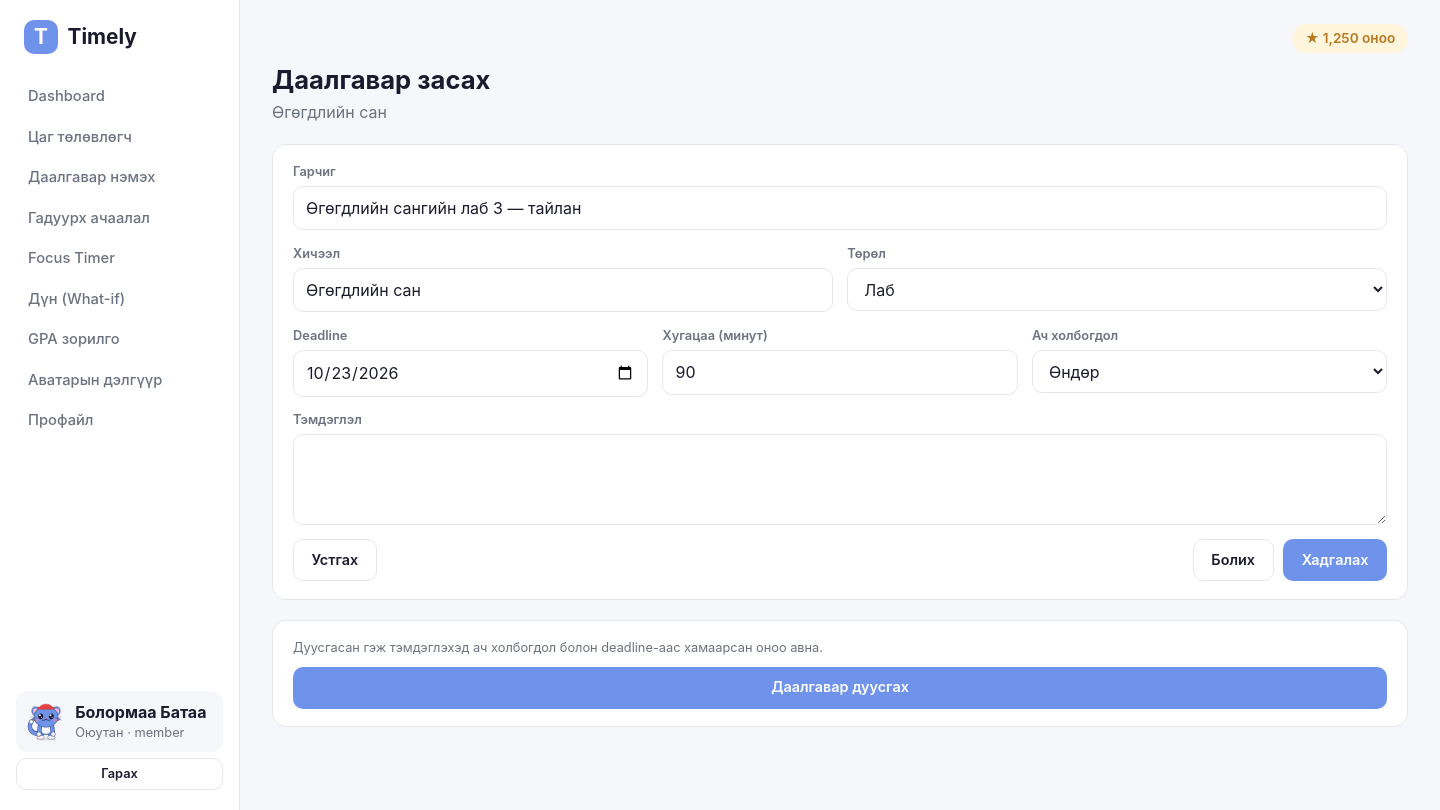
Test: TML-TASK — Task CRUD › UI: даалгавар дуусгахад оноо бүртгэнэ
Click the button with test id "complete-task". click: (840, 688)
box: [293, 667, 1387, 709]
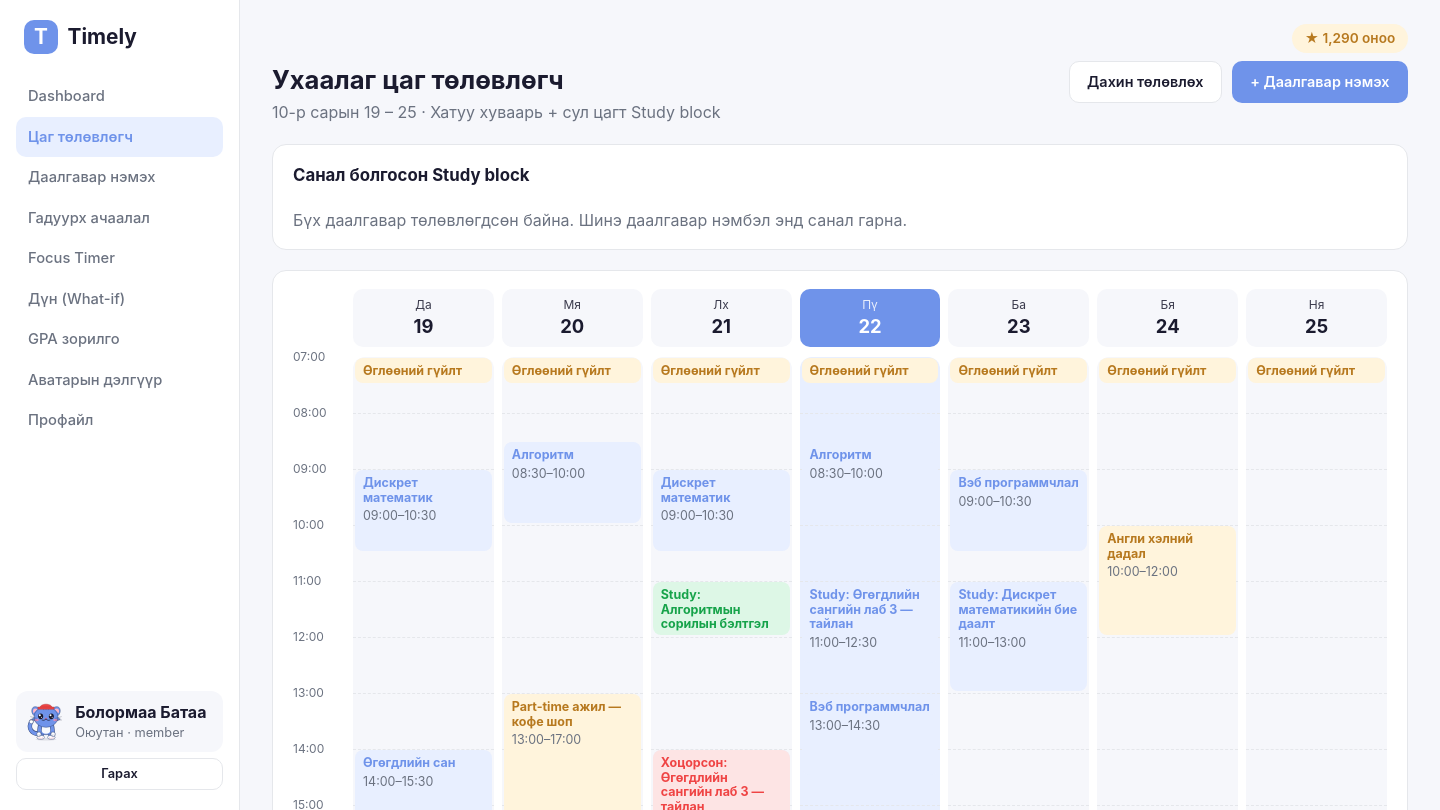
Check: the text with test id "points-chip" shows "1,290", box [1322, 30, 1359, 46]
